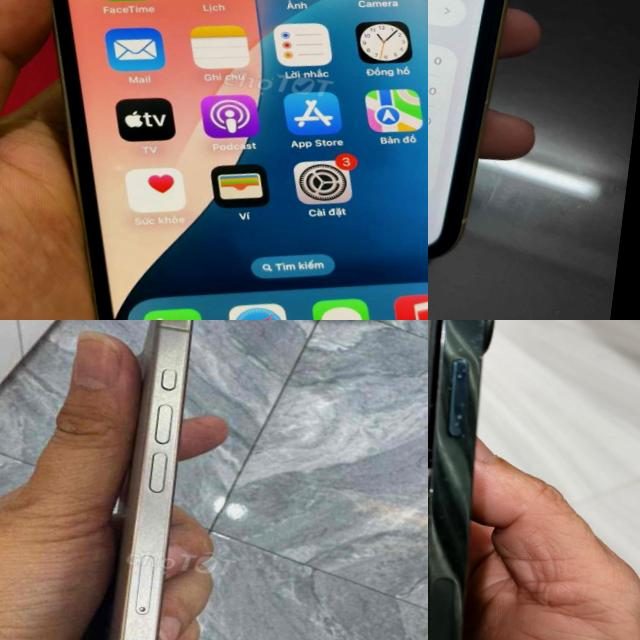scratch: (428, 471, 475, 640), (428, 354, 489, 458)
